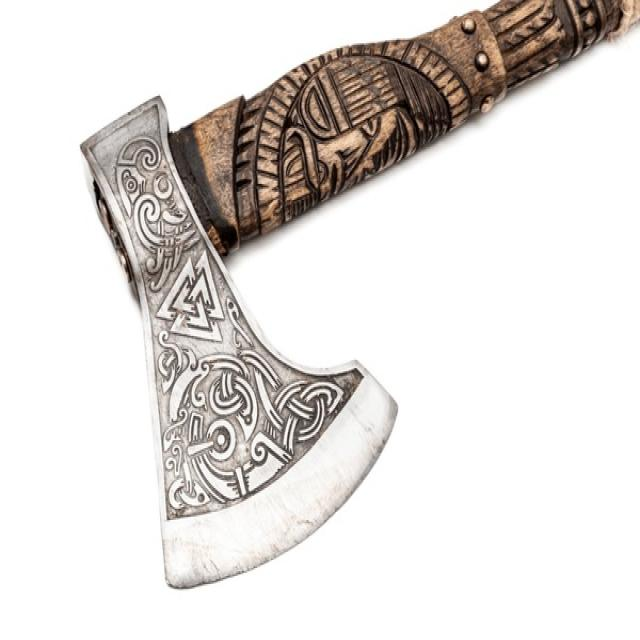Gun: (10, 0, 640, 525)
